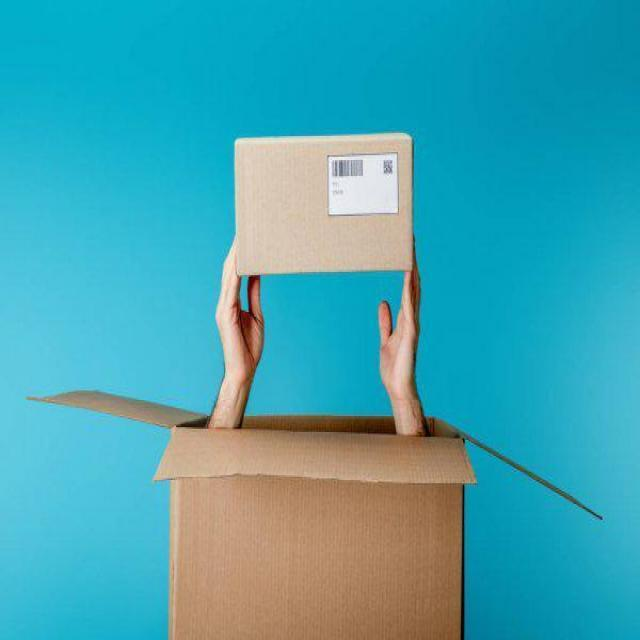box: (43, 385, 585, 640), (230, 130, 420, 280)
